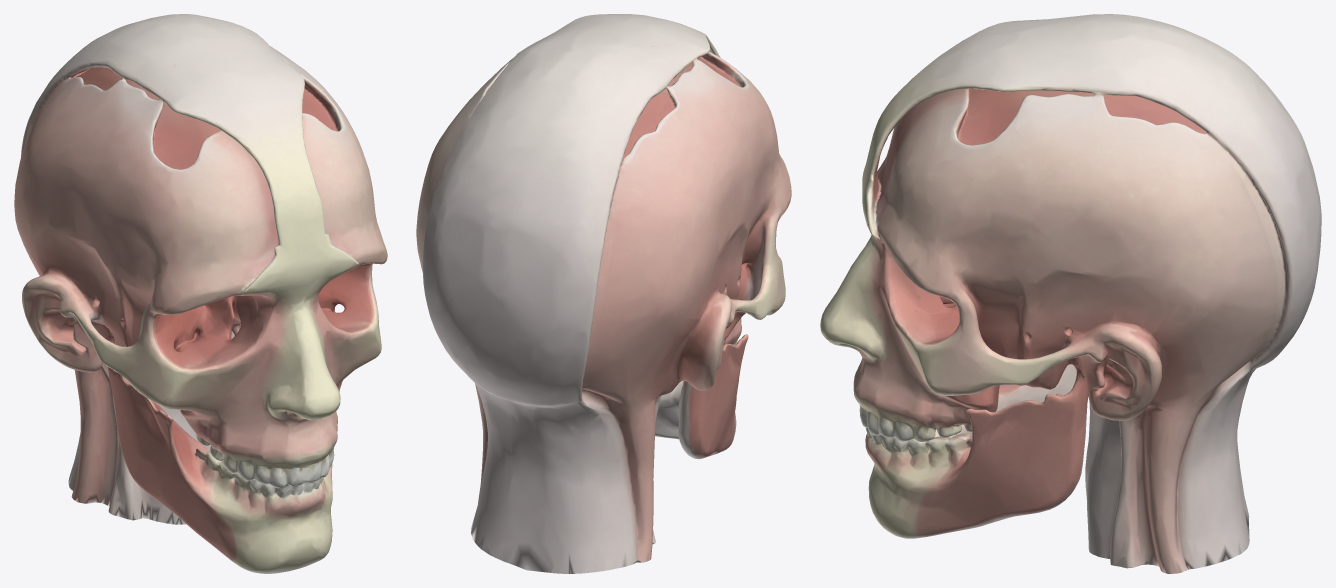
File: Env_MouthCutaway.glb
3 renders of one model, left to right at view 1: azimuth 30°, elevation 25°; view 2: azimuth 150°, elevation 25°; view 3: azimuth 270°, elevation 25°, orthographic. The views are drawn at different scales.
Bounding box in the file's own units: 1.21 × 1.9 × 1.67.
1 material, 1 textured.
